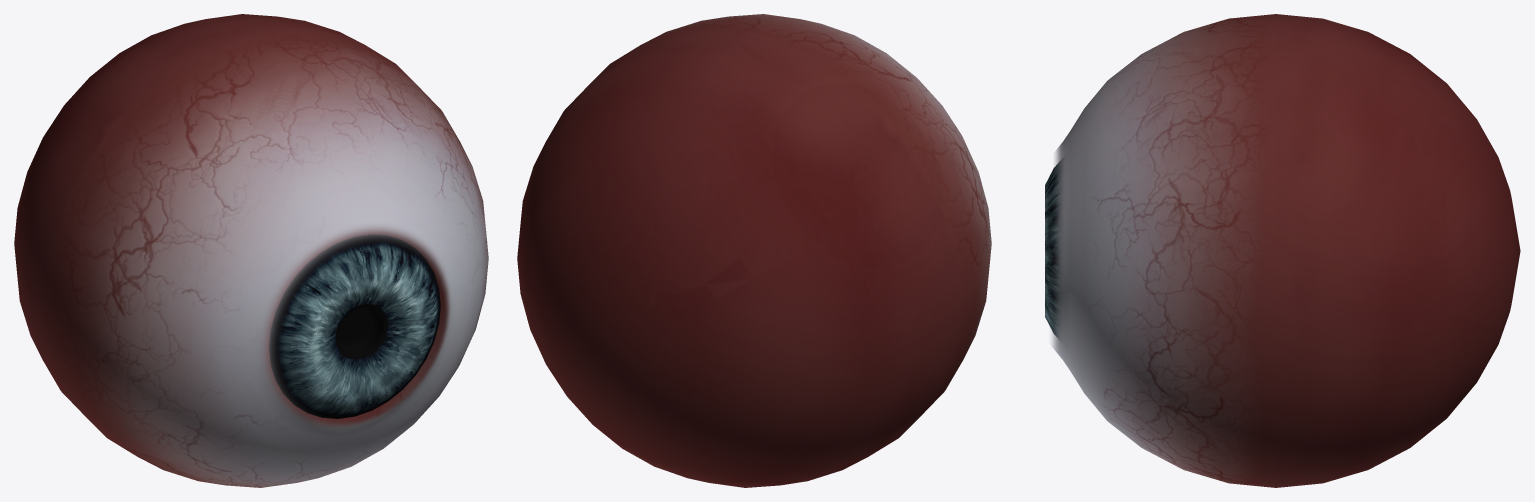
3 views of the same model, side by side, from view 1: azimuth 30°, elevation 25°; view 2: azimuth 150°, elevation 25°; view 3: azimuth 270°, elevation 25° (orthographic).
Visible parts, largest first — view 1: Kugel, Scheibe; view 2: Kugel; view 3: Kugel, Scheibe.
Boxes of the visible parts, bbox=[...] form: Kugel: bbox=[14, 14, 488, 487]; Scheibe: bbox=[269, 234, 440, 418]; Kugel: bbox=[517, 14, 991, 487]; Kugel: bbox=[1050, 14, 1520, 487]; Scheibe: bbox=[1045, 159, 1062, 339].
Size of the model in its own units: 46.19 by 46.19 by 48.69.
2 materials, 2 textured.
